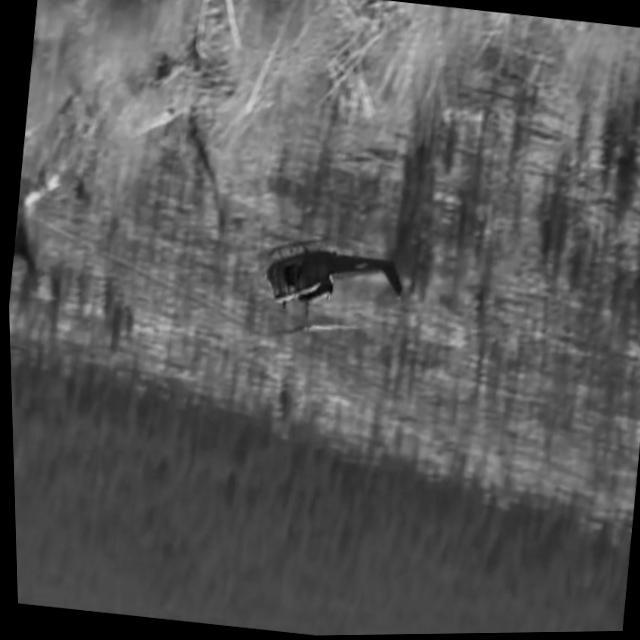helikopter: (244, 212, 421, 368)
